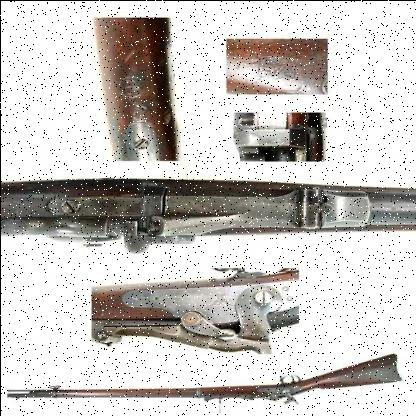rifle: (0, 329, 407, 415)
